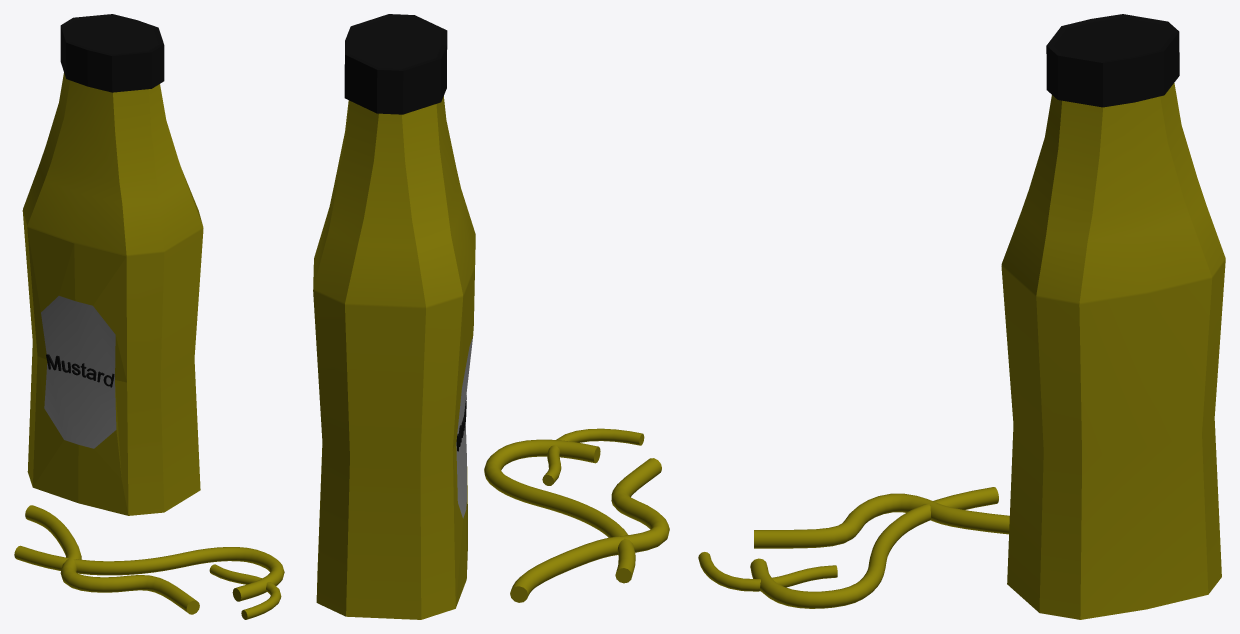
File: Mustard.obj
3 renders of one model, left to right at view 1: azimuth 30°, elevation 25°; view 2: azimuth 150°, elevation 25°; view 3: azimuth 270°, elevation 25°, orthographic. The views are drawn at different scales.
Visible parts, largest first — view 1: Box20180, Object003, Object004, Line006, Line004, Line005, Text002; view 2: Box20180, Object004, Line006, Line004, Line005, Object003; view 3: Box20180, Object004, Line006, Line004, Line005.
Part boxes in pixels (x1,y1,x2,y2): Box20180: (22,73,203,515); Object003: (41,296,116,448); Object004: (60,14,164,92); Line006: (14,545,284,601); Line004: (25,505,199,614); Line005: (209,564,281,619); Text002: (46,354,114,387); Box20180: (313,96,475,619); Object004: (344,14,447,114); Line006: (484,439,635,583); Line004: (510,458,669,602); Line005: (542,428,644,485); Object003: (456,337,472,518); Box20180: (1001,83,1225,619); Object004: (1046,14,1179,107); Line006: (750,487,998,608); Line004: (754,493,1009,548); Line005: (698,552,837,591).
Size of the model in its own units: 471 by 927 by 807.
